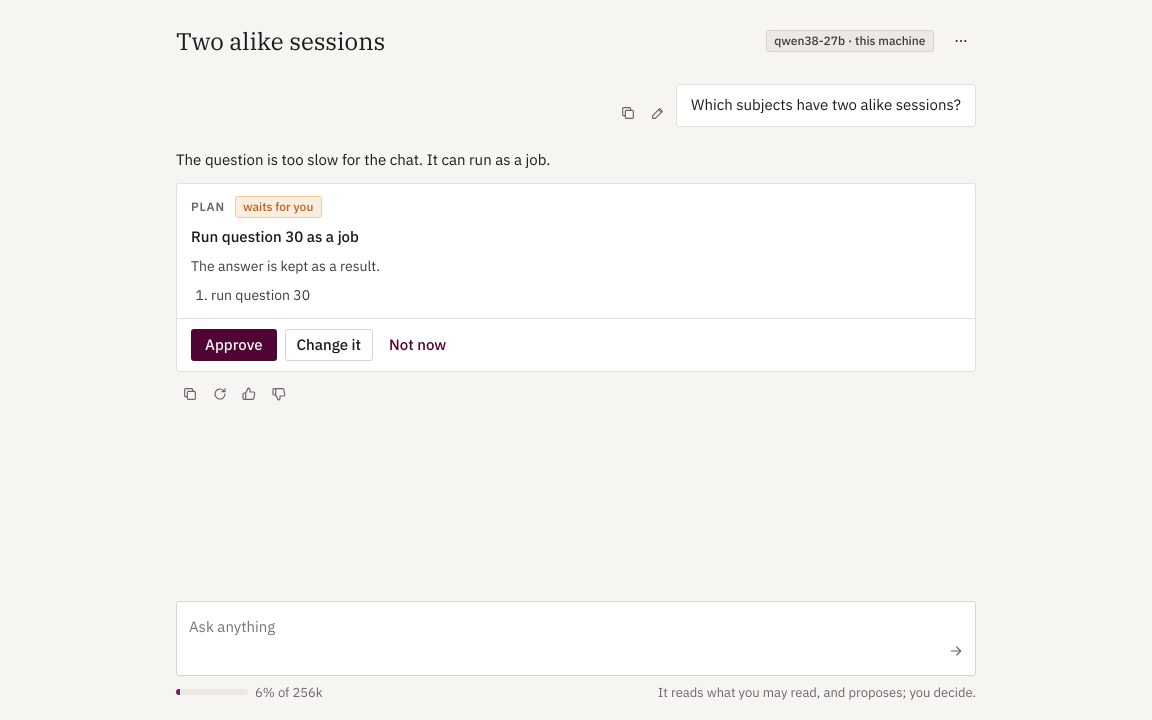
a decision on the one card › says an approval the assistant could not apply as not applied, in the assistant's words, never as approved
Click the button "Approve". click: (234, 346)
box: [191,330,277,362]
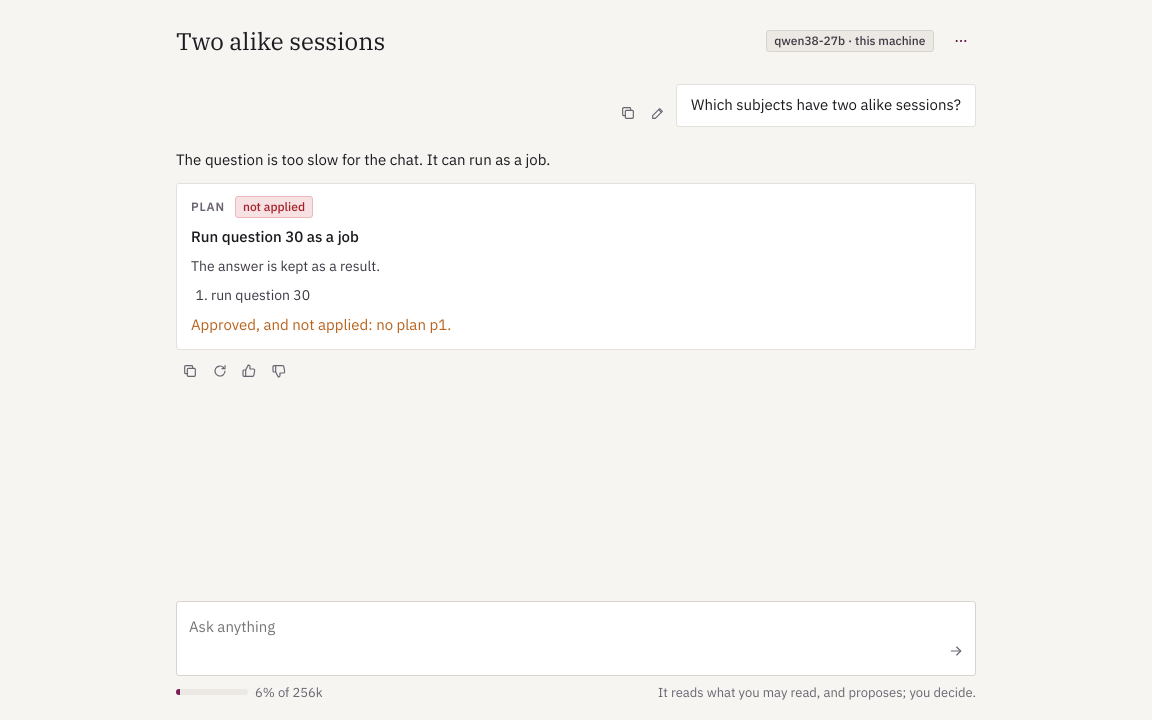
Expected: the text with class "warn" reads "Approved, and not applied: no plan p1.", [191,316,451,334]
Expected: the element with class "approval-foot" is gone
